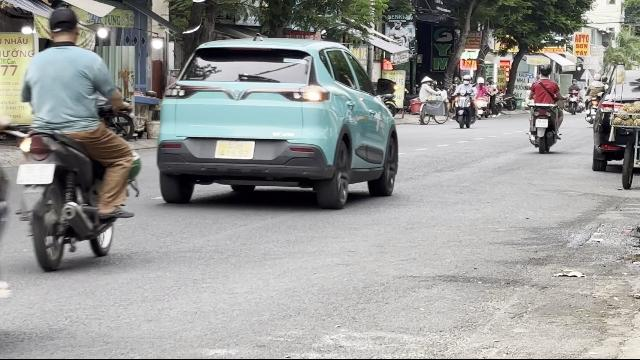helmet: (44, 6, 82, 46)
licenseplate: (17, 162, 53, 185)
motorcyclist: (12, 6, 144, 276)
nohelmet: (44, 6, 82, 46)
